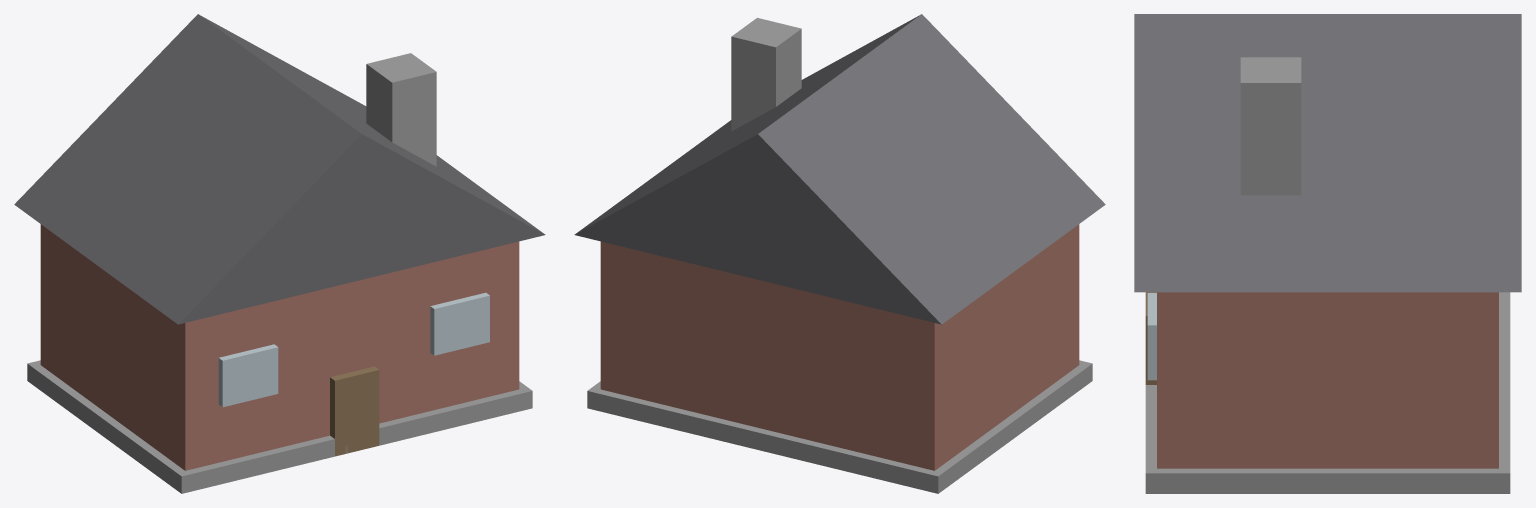
File: cottage.glb
The picture shows the model from 3 angles, left to right: view 1: azimuth 30°, elevation 25°; view 2: azimuth 150°, elevation 25°; view 3: azimuth 270°, elevation 25°; orthographic projection. The views are drawn at different scales.
Parts seen in each view (by area): view 1: geometry_0; view 2: geometry_0; view 3: geometry_0.
Boxes of the visible parts, left/top/right/bottom form: geometry_0: left=14, top=14, right=545, bottom=493; geometry_0: left=574, top=14, right=1105, bottom=493; geometry_0: left=1134, top=14, right=1521, bottom=493.
Size of the model in its own units: 13.2 by 11 by 10.2.
